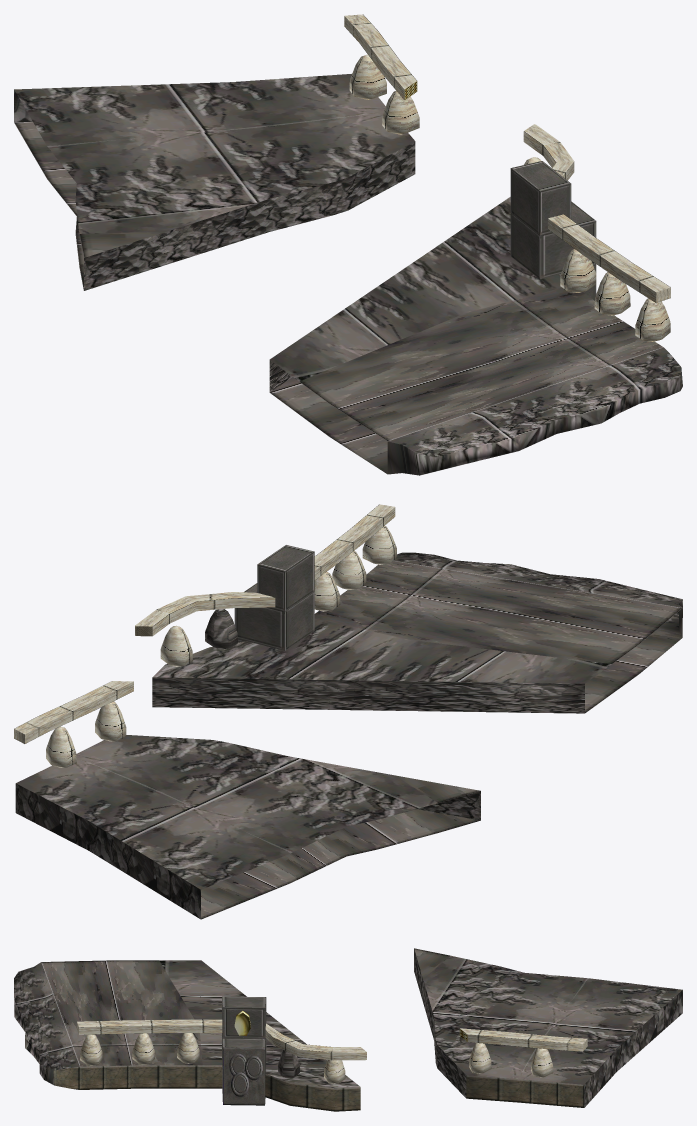
Rendered from INST_SM_WALKWAY_BROKENB.fbx.
The picture shows the model from 3 angles, top to bottom: view 1: azimuth 30°, elevation 25°; view 2: azimuth 150°, elevation 25°; view 3: azimuth 270°, elevation 25°; orthographic projection. The views are drawn at different scales.
Visible parts, largest first — view 1: INST_SM_WALKWAY_BROKENB; view 2: INST_SM_WALKWAY_BROKENB; view 3: INST_SM_WALKWAY_BROKENB.
Boxes of the visible parts, x1,y1,x2,y2 form: INST_SM_WALKWAY_BROKENB: (14, 14, 682, 475); INST_SM_WALKWAY_BROKENB: (14, 504, 682, 919); INST_SM_WALKWAY_BROKENB: (14, 948, 682, 1111).
Bounding box in the file's own units: 80878 × 23218 × 158488.
Materials: 7 (7 with a texture image).
